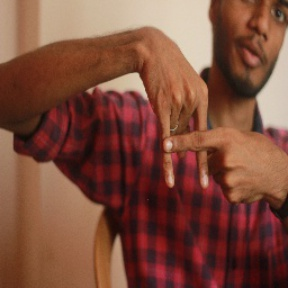H: (143, 77, 243, 193)
